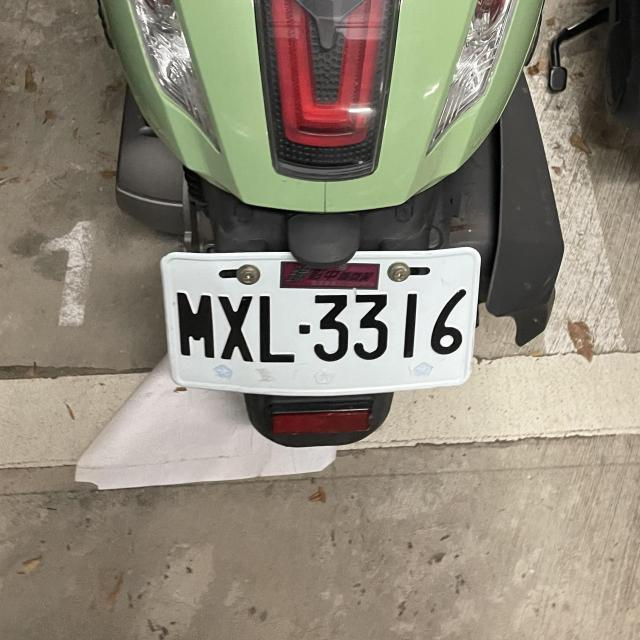W: (153, 245, 484, 403)
